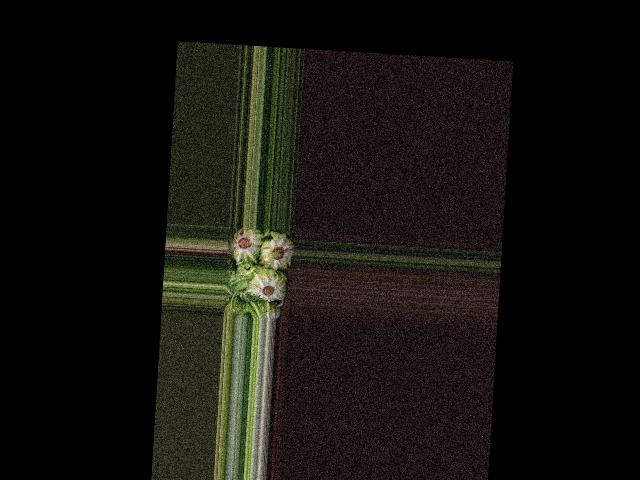lettuce: (231, 227, 263, 264)
